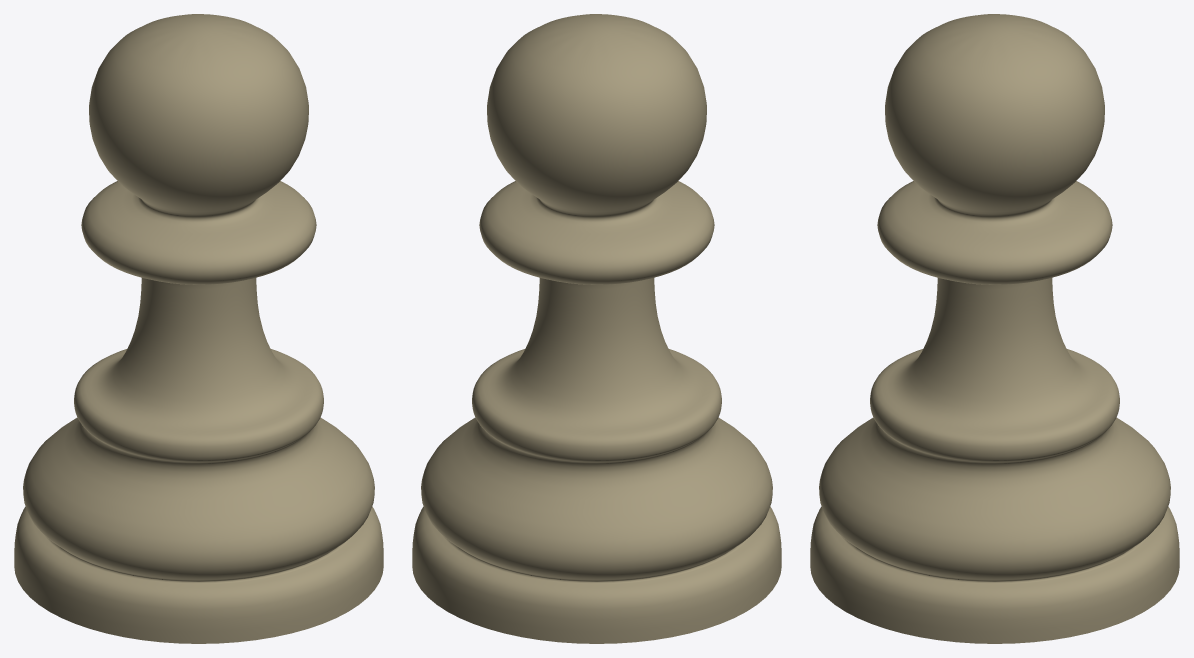
Rendered from pawn.obj.
The picture shows the model from 3 angles, left to right: view 1: azimuth 30°, elevation 25°; view 2: azimuth 150°, elevation 25°; view 3: azimuth 270°, elevation 25°; orthographic projection.
Visible parts, largest first — view 1: Circle.006; view 2: Circle.006; view 3: Circle.006.
Part boxes in pixels (x1=…): Circle.006: x1=14, y1=14, x2=383, y2=643; Circle.006: x1=412, y1=14, x2=781, y2=643; Circle.006: x1=810, y1=14, x2=1179, y2=643.
Bounding box in the file's own units: 1.2 × 1.93 × 1.2.
